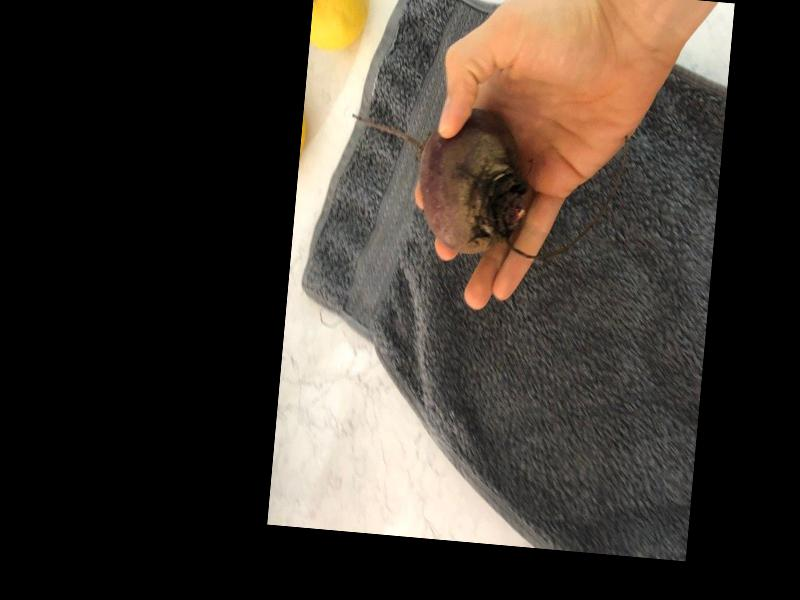Beet: (342, 97, 539, 256)
